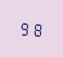eight: (31, 20, 42, 37)
nine: (19, 19, 30, 36)
